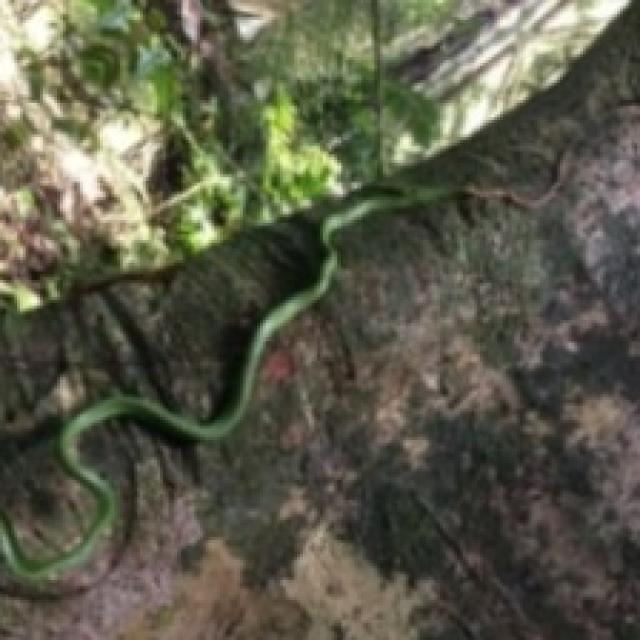red-tailed green ratsnake: (0, 186, 454, 581)
